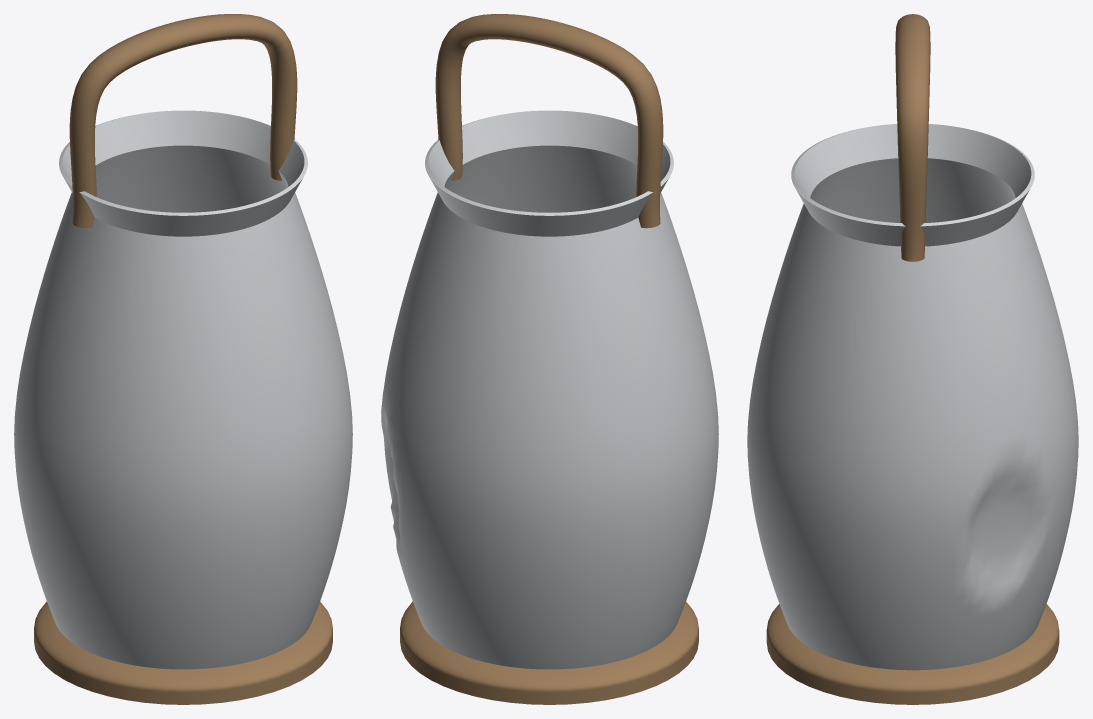
The model's file is lathe.gltf.
3 renders of one model, left to right at view 1: azimuth 30°, elevation 25°; view 2: azimuth 150°, elevation 25°; view 3: azimuth 270°, elevation 25°, orthographic. The views are drawn at different scales.
Parts seen in each view (by area): view 1: body, handle, foot; view 2: body, handle, foot; view 3: body, foot, handle.
Part boxes in pixels (left/top/right/bottom): body: left=14, top=110, right=352, bottom=669; handle: left=69, top=14, right=297, bottom=228; foot: left=34, top=601, right=332, bottom=704; body: left=381, top=110, right=718, bottom=669; handle: left=435, top=14, right=663, bottom=228; foot: left=400, top=601, right=698, bottom=704; body: left=747, top=124, right=1078, bottom=670; foot: left=766, top=604, right=1059, bottom=704; handle: left=895, top=14, right=930, bottom=261.
Bounding box in the file's own units: 0.34 × 0.6855 × 0.34.
